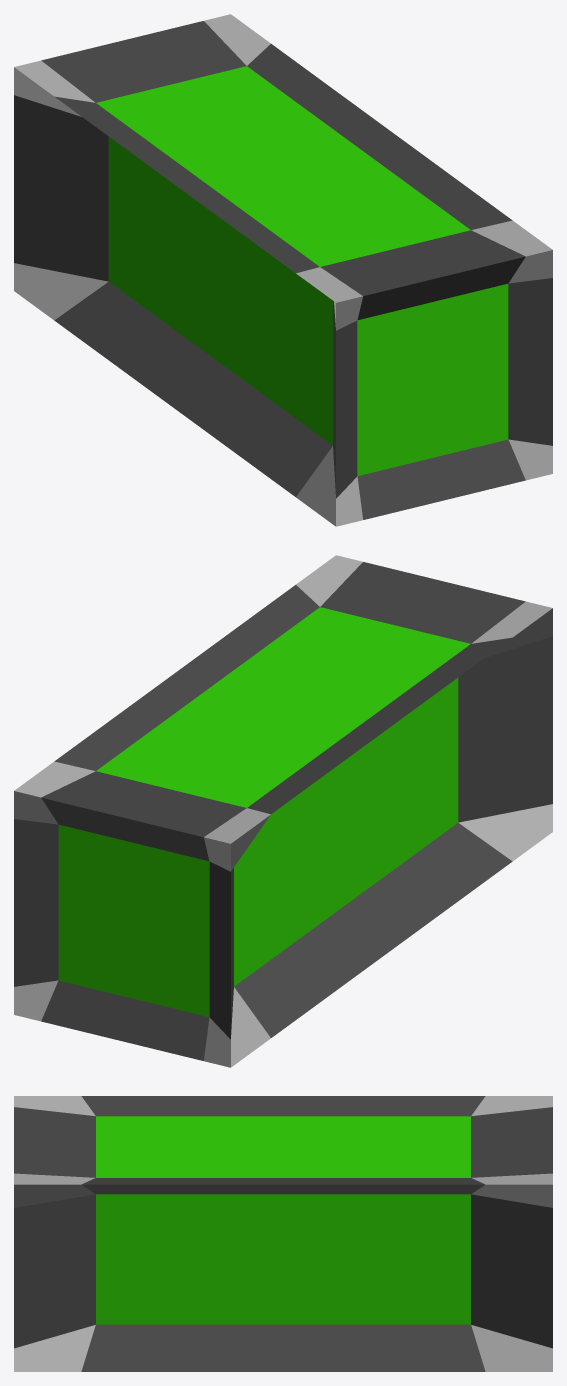
Rendered from Begrenzung.fbx.
3 renders of one model, top to bottom at view 1: azimuth 30°, elevation 25°; view 2: azimuth 150°, elevation 25°; view 3: azimuth 270°, elevation 25°, orthographic. The views are drawn at different scales.
Visible parts, largest first — view 1: Cube; view 2: Cube; view 3: Cube.
Boxes of the visible parts, bbox=[...] form: Cube: bbox=[14, 14, 552, 526]; Cube: bbox=[14, 555, 552, 1067]; Cube: bbox=[14, 1096, 552, 1371].
Bounding box in the file's own units: 77.75 × 76.72 × 200.
